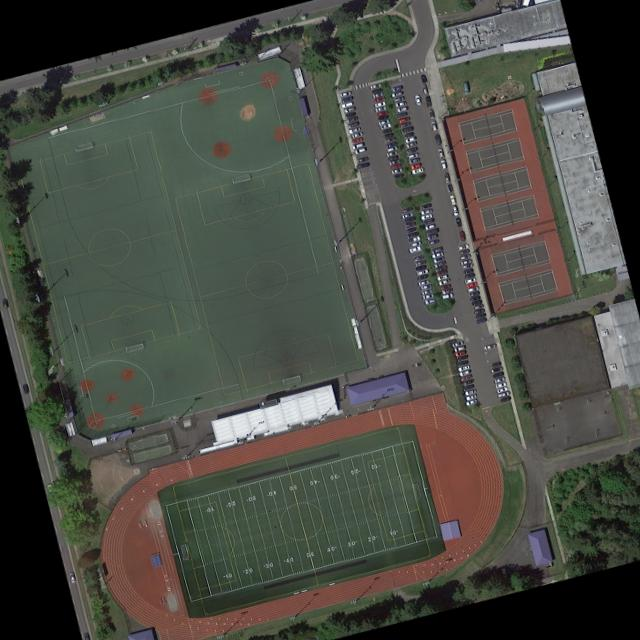small-vehicle: (424, 227, 438, 236), (421, 217, 434, 226), (353, 146, 366, 155), (482, 343, 496, 351), (432, 133, 441, 145), (404, 146, 417, 154), (450, 340, 463, 348), (461, 81, 469, 94), (376, 118, 389, 126), (368, 82, 381, 90), (455, 359, 468, 367), (396, 116, 409, 124), (351, 141, 364, 149), (349, 131, 362, 139), (347, 126, 360, 134), (346, 120, 359, 128), (456, 364, 469, 372), (458, 374, 471, 382), (496, 390, 509, 398), (494, 386, 507, 394), (493, 381, 506, 389), (492, 376, 505, 384), (415, 268, 428, 276), (407, 245, 420, 253), (407, 235, 420, 243), (400, 211, 413, 219), (430, 246, 443, 254), (355, 162, 369, 169), (384, 150, 398, 157), (0, 297, 8, 309), (67, 571, 75, 583), (420, 83, 428, 95), (456, 243, 468, 251), (429, 119, 437, 131), (423, 95, 431, 107), (426, 108, 434, 120), (395, 105, 407, 113), (385, 145, 397, 153), (403, 135, 415, 143), (404, 140, 416, 148), (350, 136, 362, 144), (345, 115, 357, 123), (340, 95, 352, 103), (390, 167, 402, 175), (410, 167, 422, 175), (409, 162, 421, 170), (463, 388, 475, 396), (464, 398, 476, 406), (491, 371, 503, 379), (437, 278, 449, 286), (433, 260, 445, 268), (430, 251, 442, 259), (465, 286, 478, 293), (405, 231, 418, 238), (403, 221, 416, 228), (373, 105, 386, 112), (423, 298, 436, 305), (355, 156, 368, 163), (342, 106, 355, 113), (421, 293, 434, 300), (419, 208, 432, 215), (489, 366, 502, 373), (416, 279, 429, 286), (433, 265, 446, 272), (457, 230, 465, 241), (450, 205, 458, 216), (444, 183, 452, 194), (499, 395, 510, 403), (21, 382, 28, 394), (389, 163, 401, 170), (376, 114, 388, 121), (414, 264, 426, 271), (400, 126, 412, 133), (386, 154, 398, 161), (391, 172, 403, 179), (413, 94, 420, 106), (463, 277, 475, 284), (459, 258, 471, 265), (458, 253, 470, 260), (400, 206, 412, 213), (403, 216, 415, 223), (474, 317, 486, 324), (473, 312, 485, 319), (472, 308, 484, 315), (470, 299, 482, 306), (468, 295, 480, 302), (467, 290, 479, 297), (461, 268, 473, 275), (452, 345, 464, 352), (454, 350, 466, 357), (455, 354, 467, 361), (384, 141, 396, 148), (383, 136, 395, 143), (376, 110, 388, 117), (373, 101, 385, 108), (398, 121, 410, 128), (394, 100, 406, 107), (390, 85, 402, 92), (406, 152, 418, 159), (340, 101, 352, 108), (338, 90, 350, 97), (407, 157, 419, 164), (420, 288, 432, 295), (419, 283, 431, 290), (423, 223, 435, 230), (458, 369, 470, 376), (464, 394, 476, 401), (461, 384, 473, 391), (419, 213, 431, 220), (425, 233, 437, 240), (413, 259, 425, 266), (409, 240, 421, 247), (440, 292, 452, 299), (440, 288, 452, 295), (438, 283, 450, 290), (435, 274, 447, 281), (434, 269, 446, 276), (431, 256, 443, 263), (462, 378, 472, 386), (387, 159, 400, 165), (371, 87, 382, 94), (416, 273, 427, 280), (344, 111, 355, 118), (382, 132, 393, 139), (461, 262, 472, 269), (458, 248, 469, 255), (448, 194, 455, 205), (442, 172, 449, 183), (439, 159, 446, 170), (436, 148, 443, 159), (412, 255, 423, 262), (405, 226, 416, 233), (472, 303, 483, 310), (463, 272, 474, 279), (379, 123, 390, 130), (373, 96, 384, 103), (490, 361, 501, 368), (427, 238, 438, 245), (419, 203, 431, 209), (389, 91, 401, 97), (396, 111, 406, 118), (403, 131, 413, 138), (419, 74, 426, 84), (454, 217, 461, 227), (381, 128, 392, 134), (465, 282, 476, 288), (371, 92, 382, 98), (392, 96, 403, 102), (82, 631, 89, 640), (520, 0, 529, 7)
